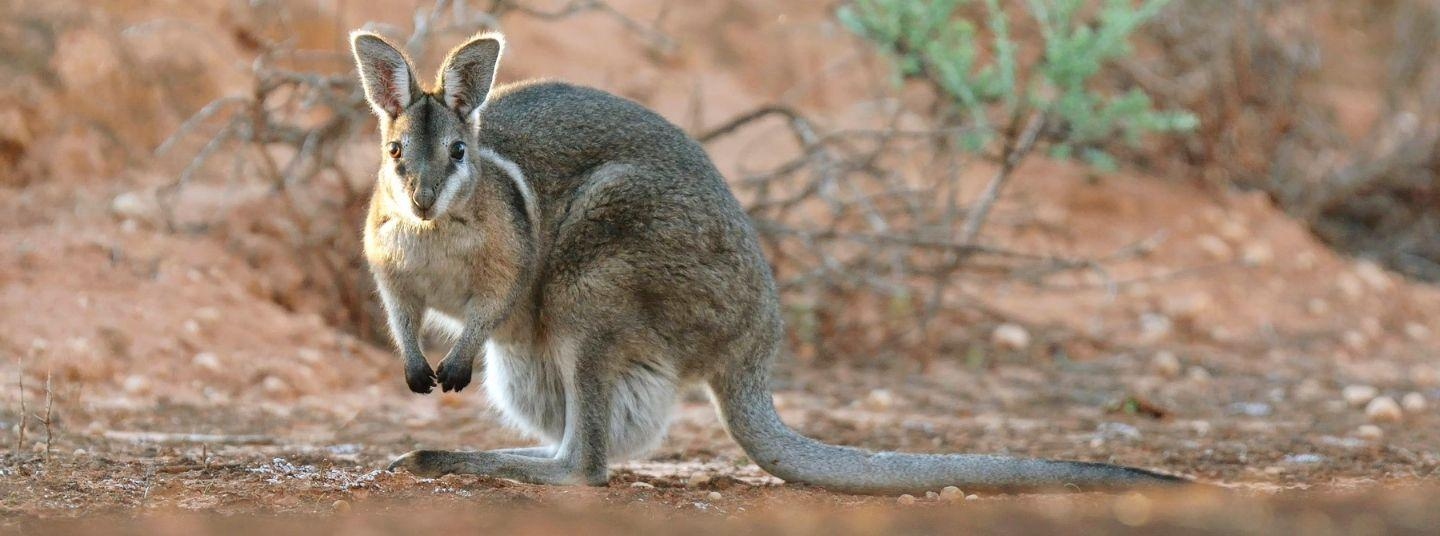Bridled-nail-tail wallaby: (349, 33, 1245, 496)
